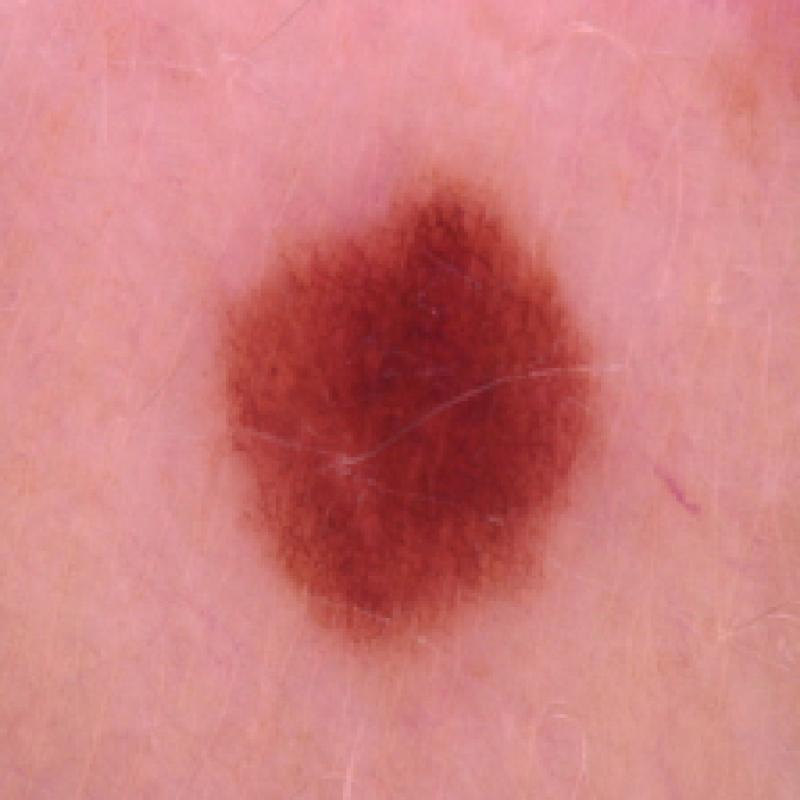benign: (206, 166, 624, 666)
